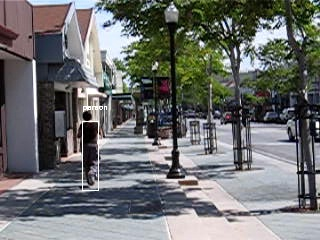person: (78, 111, 103, 189), (77, 111, 102, 189), (79, 111, 104, 189), (78, 110, 103, 188), (78, 112, 103, 190)
target_negative: (69, 199, 192, 223), (300, 59, 307, 198), (304, 101, 309, 212), (294, 211, 307, 234), (317, 23, 318, 156), (214, 145, 223, 149)
